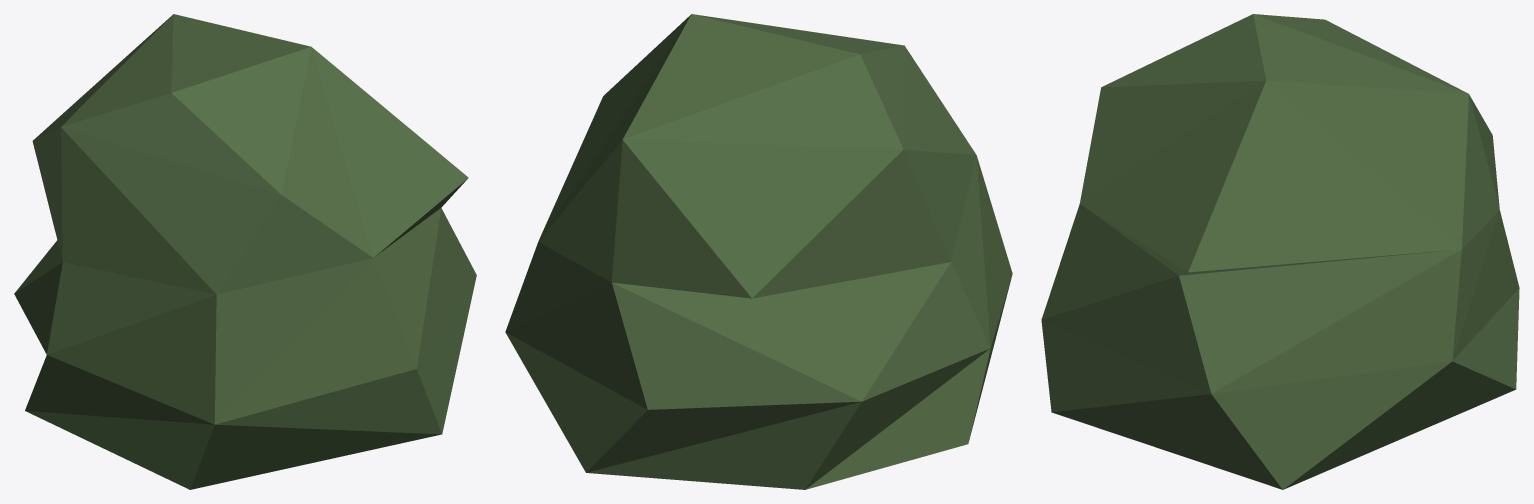
The model's file is Bush_2.lod3.glb.
3 views of the same model, side by side, from view 1: azimuth 30°, elevation 25°; view 2: azimuth 150°, elevation 25°; view 3: azimuth 270°, elevation 25° (orthographic). The views are drawn at different scales.
Visible parts, largest first — view 1: Bush_2; view 2: Bush_2; view 3: Bush_2.
Boxes of the visible parts, x1,y1,x2,y2 form: Bush_2: (14,14,476,489); Bush_2: (505,14,1012,489); Bush_2: (1041,14,1519,489).
Bounding box in the file's own units: 1.3 × 1.07 × 1.28.
